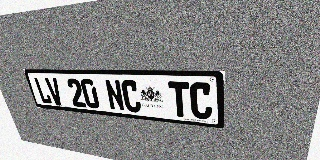0: (79, 79, 100, 109)
2: (66, 78, 86, 108)
C: (189, 82, 212, 120), (120, 80, 142, 113)
L: (33, 77, 53, 104)
N: (104, 79, 125, 111)
T: (168, 81, 190, 118)
V: (44, 78, 64, 105)
